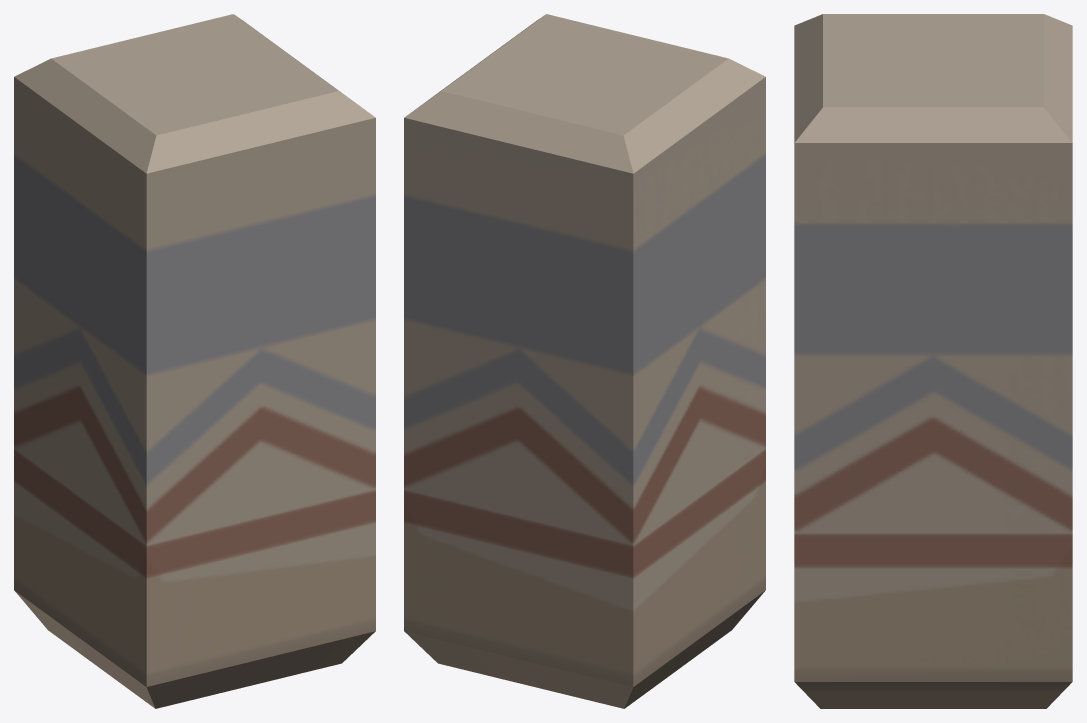
The model's file is SM_Bld_Wall_Balcony_Pillar_01.fbx.
The picture shows the model from 3 angles, left to right: view 1: azimuth 30°, elevation 25°; view 2: azimuth 150°, elevation 25°; view 3: azimuth 270°, elevation 25°; orthographic projection. The views are drawn at different scales.
Parts seen in each view (by area): view 1: SM_Bld_Wall_Balcony_Pillar_01; view 2: SM_Bld_Wall_Balcony_Pillar_01; view 3: SM_Bld_Wall_Balcony_Pillar_01.
Part boxes in pixels (x1=…): SM_Bld_Wall_Balcony_Pillar_01: x1=14, y1=14, x2=375, y2=708; SM_Bld_Wall_Balcony_Pillar_01: x1=404, y1=14, x2=765, y2=708; SM_Bld_Wall_Balcony_Pillar_01: x1=794, y1=14, x2=1072, y2=708.
Size of the model in its own units: 24.83 by 59.17 by 24.83.
